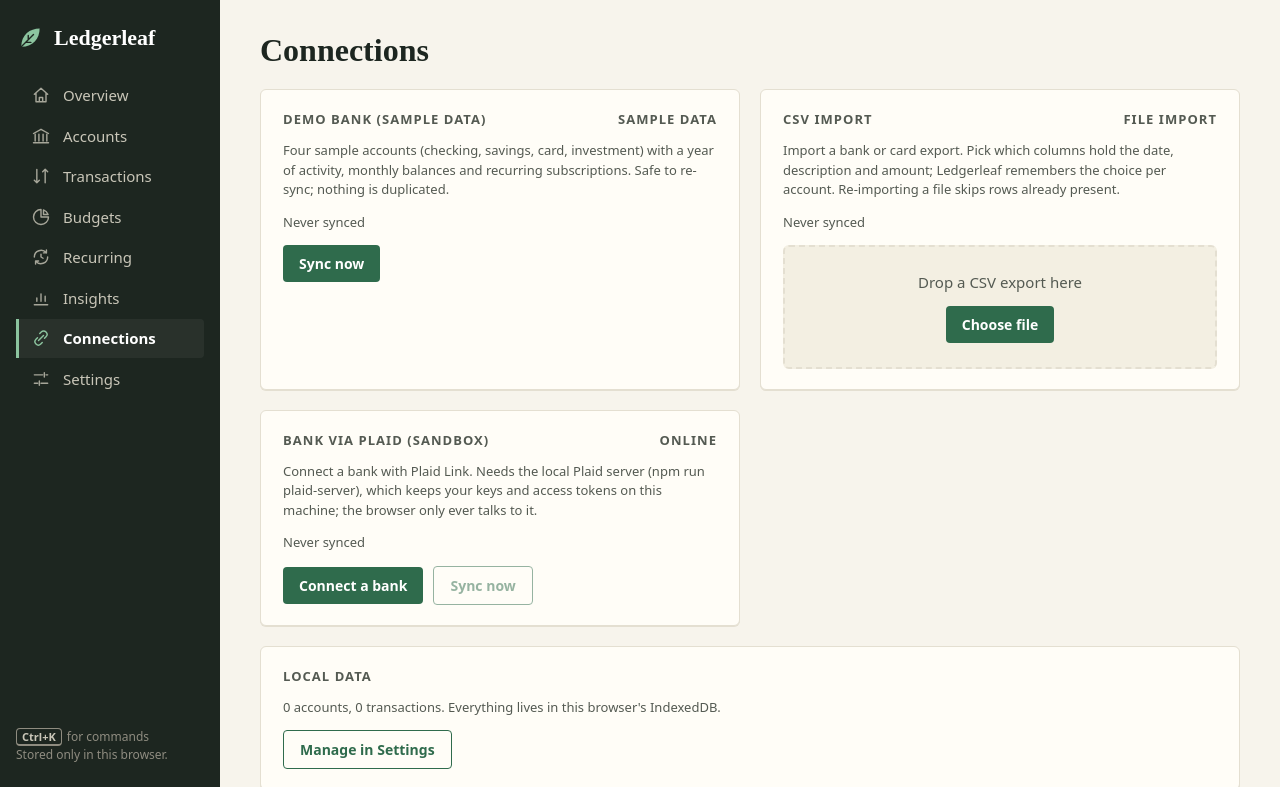
it: Plaid connection card › connects a bank with Plaid Link, then syncs it into the ledger
Expected: the button "Sync now" below "Bank via Plaid (sandbox)" is disabled, [434,566,533,604]
Click the button "Connect a bank".
click(353, 585)  # box [283,566,424,604]
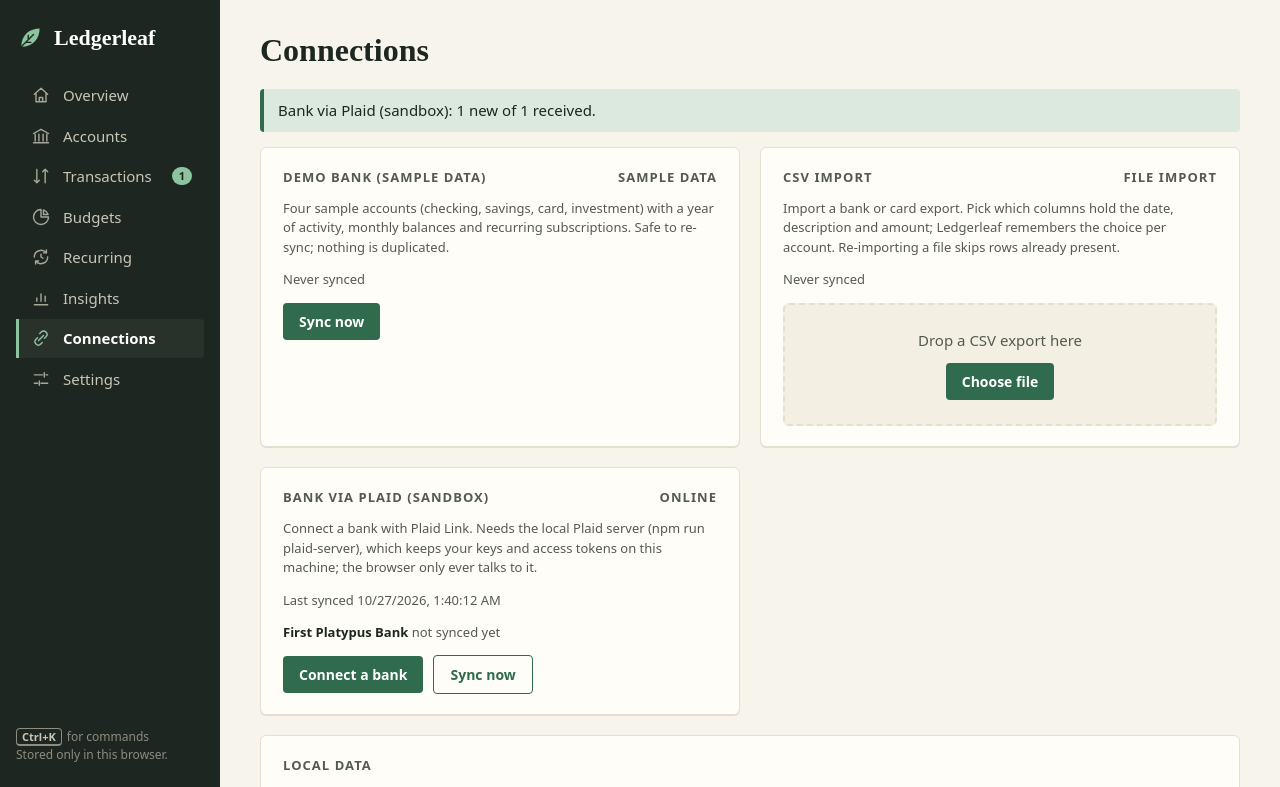
Result: the text "Bank via Plaid (sandbox): 1 new of 1 received." is shown at [260,89,1240,132]
Result: the text "First Platypus Bank" is shown at [283,623,408,641]
Result: the text "Last synced 10/27/2026, 1:40:12 AM" is shown at [283,590,501,608]
